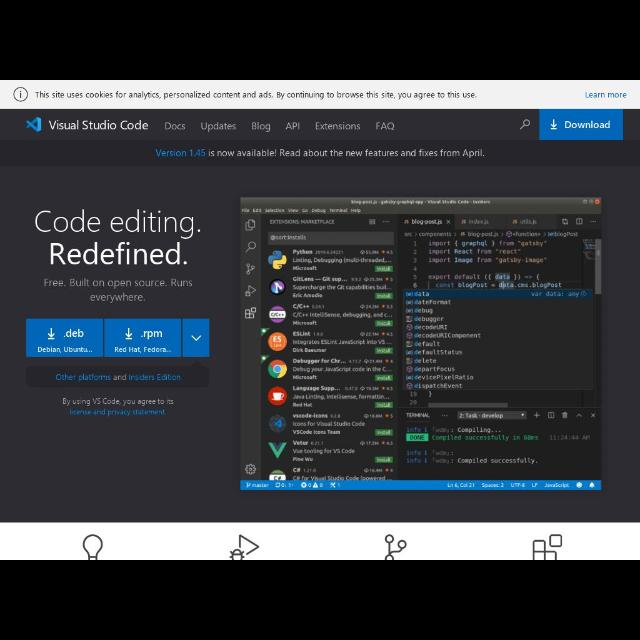icon: (23, 116, 44, 130), (44, 328, 56, 340), (125, 324, 134, 340), (189, 335, 203, 343), (520, 120, 530, 130), (550, 118, 558, 130)
image: (237, 197, 603, 493)
text: (32, 207, 204, 240), (152, 147, 488, 161), (36, 242, 188, 272), (31, 366, 191, 386), (62, 392, 176, 416), (41, 275, 196, 289), (50, 370, 182, 384), (47, 116, 149, 134), (32, 342, 96, 356), (80, 294, 150, 304), (562, 120, 614, 132), (314, 120, 364, 132), (115, 346, 173, 354), (249, 118, 273, 134), (199, 121, 235, 131), (162, 121, 192, 132), (374, 120, 396, 134), (286, 118, 304, 132), (139, 330, 163, 340), (64, 328, 86, 338)
textbutton: (27, 316, 211, 358), (539, 110, 623, 136)
toolbar: (2, 110, 640, 140)
